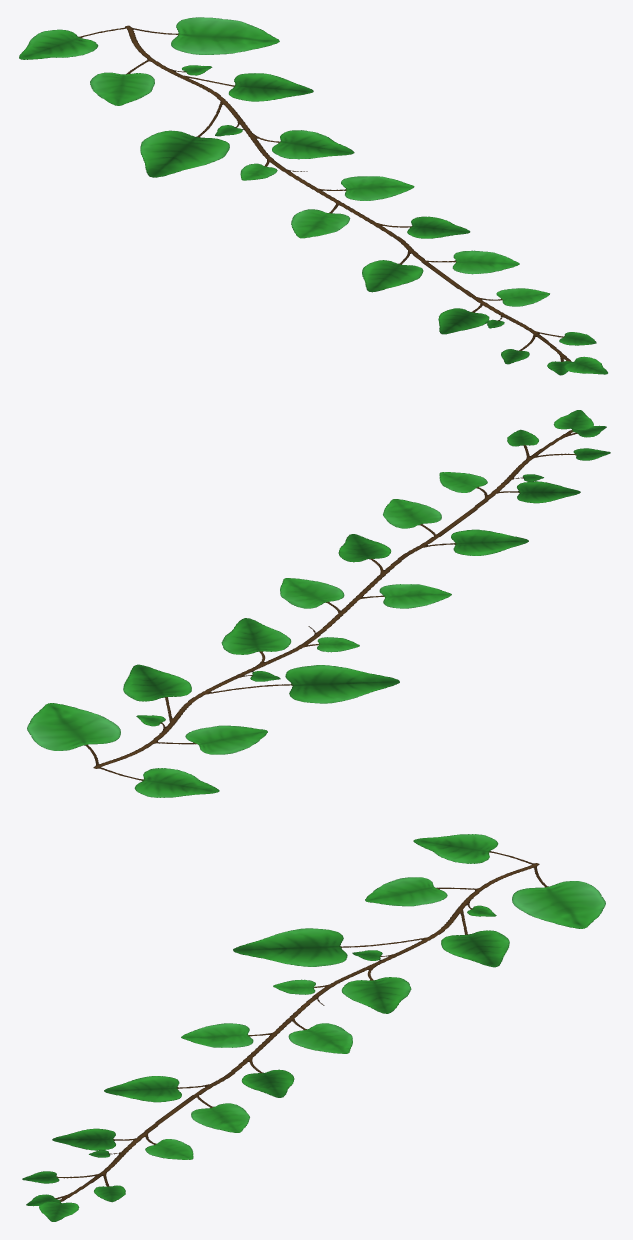
Rendered from Ivy3.fbx.
3 renders of one model, top to bottom at view 1: azimuth 30°, elevation 25°; view 2: azimuth 150°, elevation 25°; view 3: azimuth 330°, elevation 25°, orthographic. The views are drawn at different scales.
Parts seen in each view (by area): view 1: Ivy3; view 2: Ivy3; view 3: Ivy3.
Part boxes in pixels (x1=…): Ivy3: x1=19, y1=17, x2=607, y2=375; Ivy3: x1=27, y1=410, x2=610, y2=797; Ivy3: x1=22, y1=834, x2=605, y2=1221.
Size of the model in its own units: 3.87 by 8.38e-16 by 13.69.
